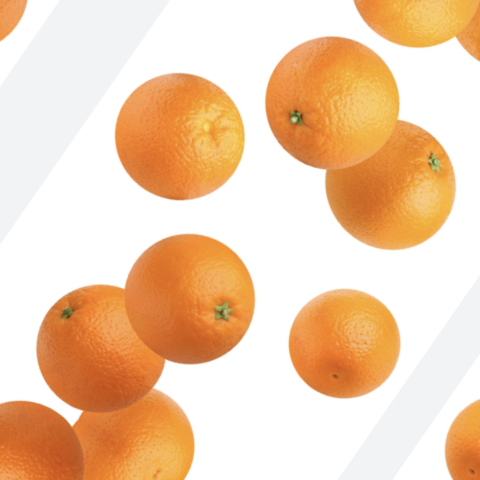orange: (71, 40, 276, 246), (230, 0, 436, 204), (0, 244, 204, 446), (93, 204, 289, 398), (294, 86, 480, 282), (264, 259, 429, 427), (76, 349, 233, 480)
